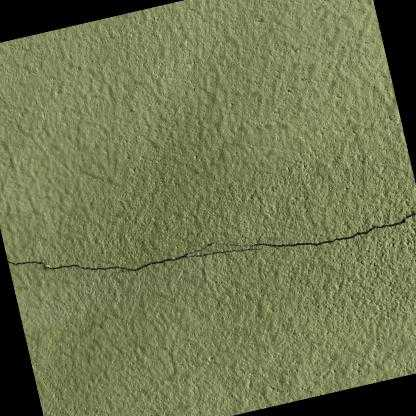crack: (7, 241, 263, 272), (221, 209, 416, 248)
